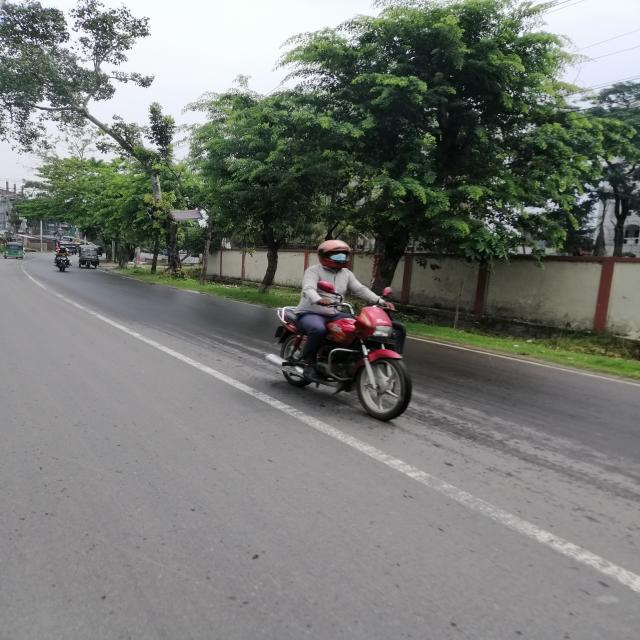Motorbike: (254, 273, 453, 428)
